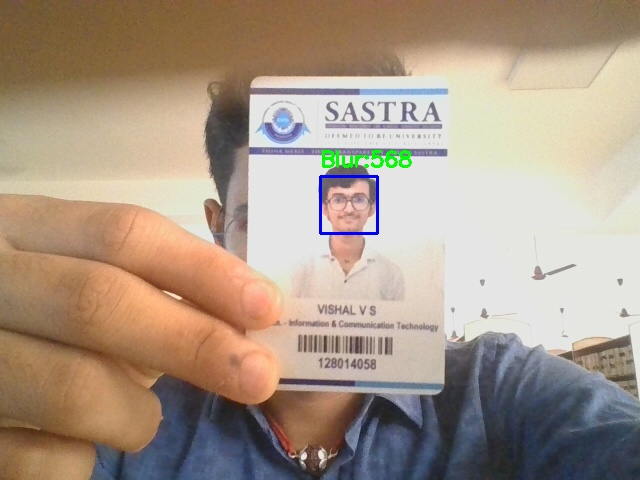fake: (320, 176, 377, 233)
